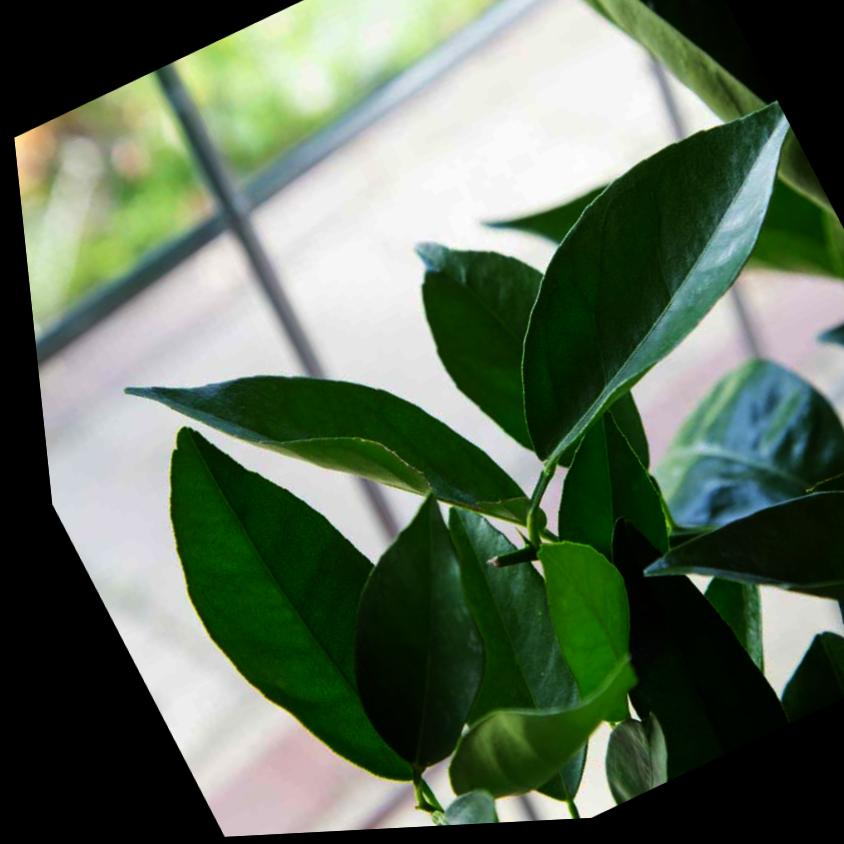Healthy Citrus: (76, 368, 458, 842), (403, 92, 844, 496), (104, 254, 532, 646), (123, 410, 405, 810), (263, 483, 546, 793), (532, 497, 775, 792), (621, 455, 844, 757), (798, 308, 844, 654)
